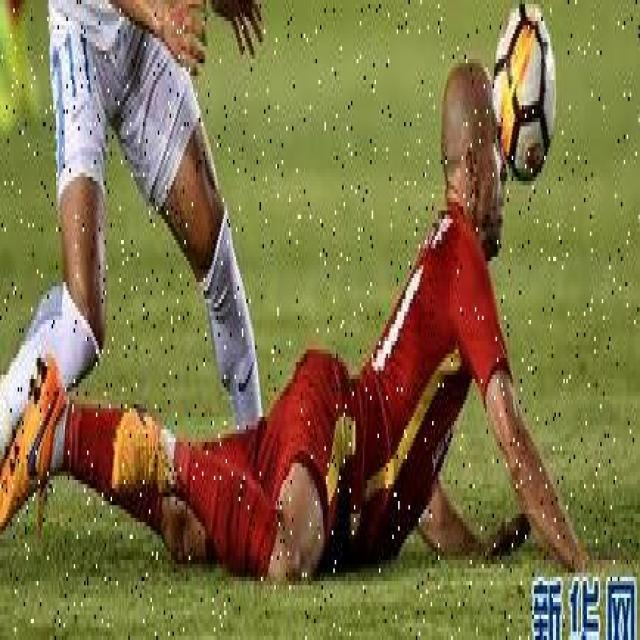fall: (19, 88, 499, 564)
